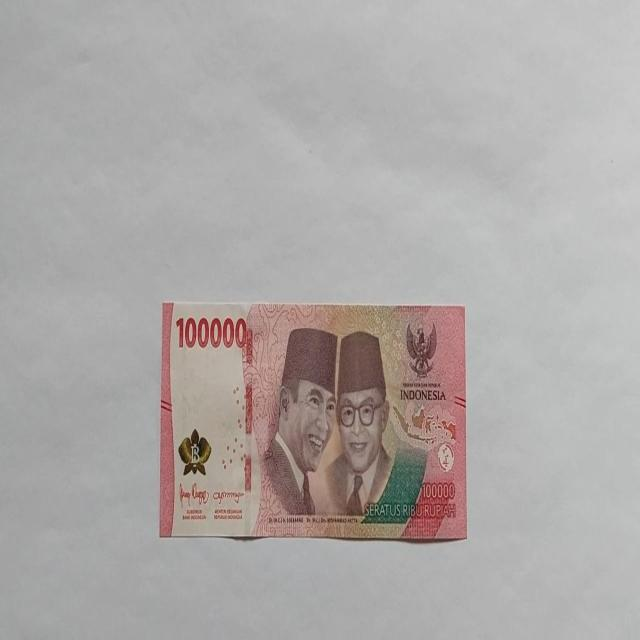Kertas: (159, 300, 467, 542), (175, 313, 248, 351)
